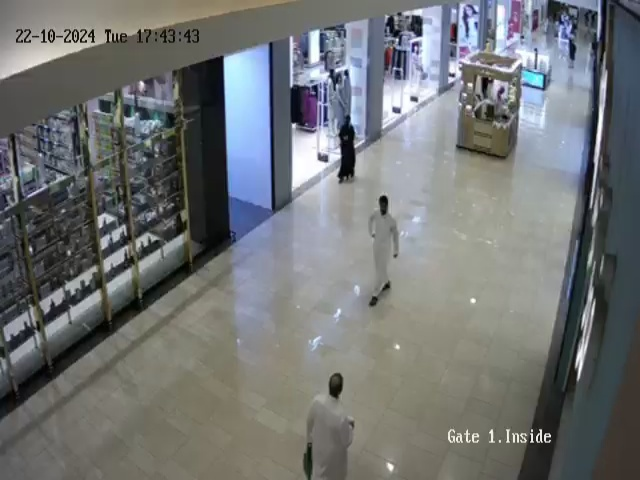female: (337, 115, 356, 183)
male: (303, 373, 355, 480), (368, 193, 400, 307)
